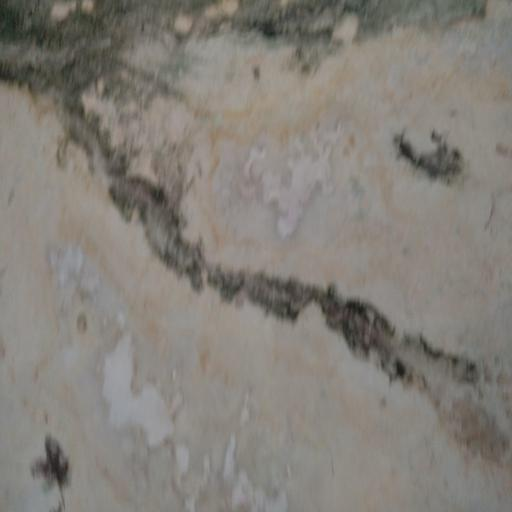algae: (0, 0, 436, 290)
